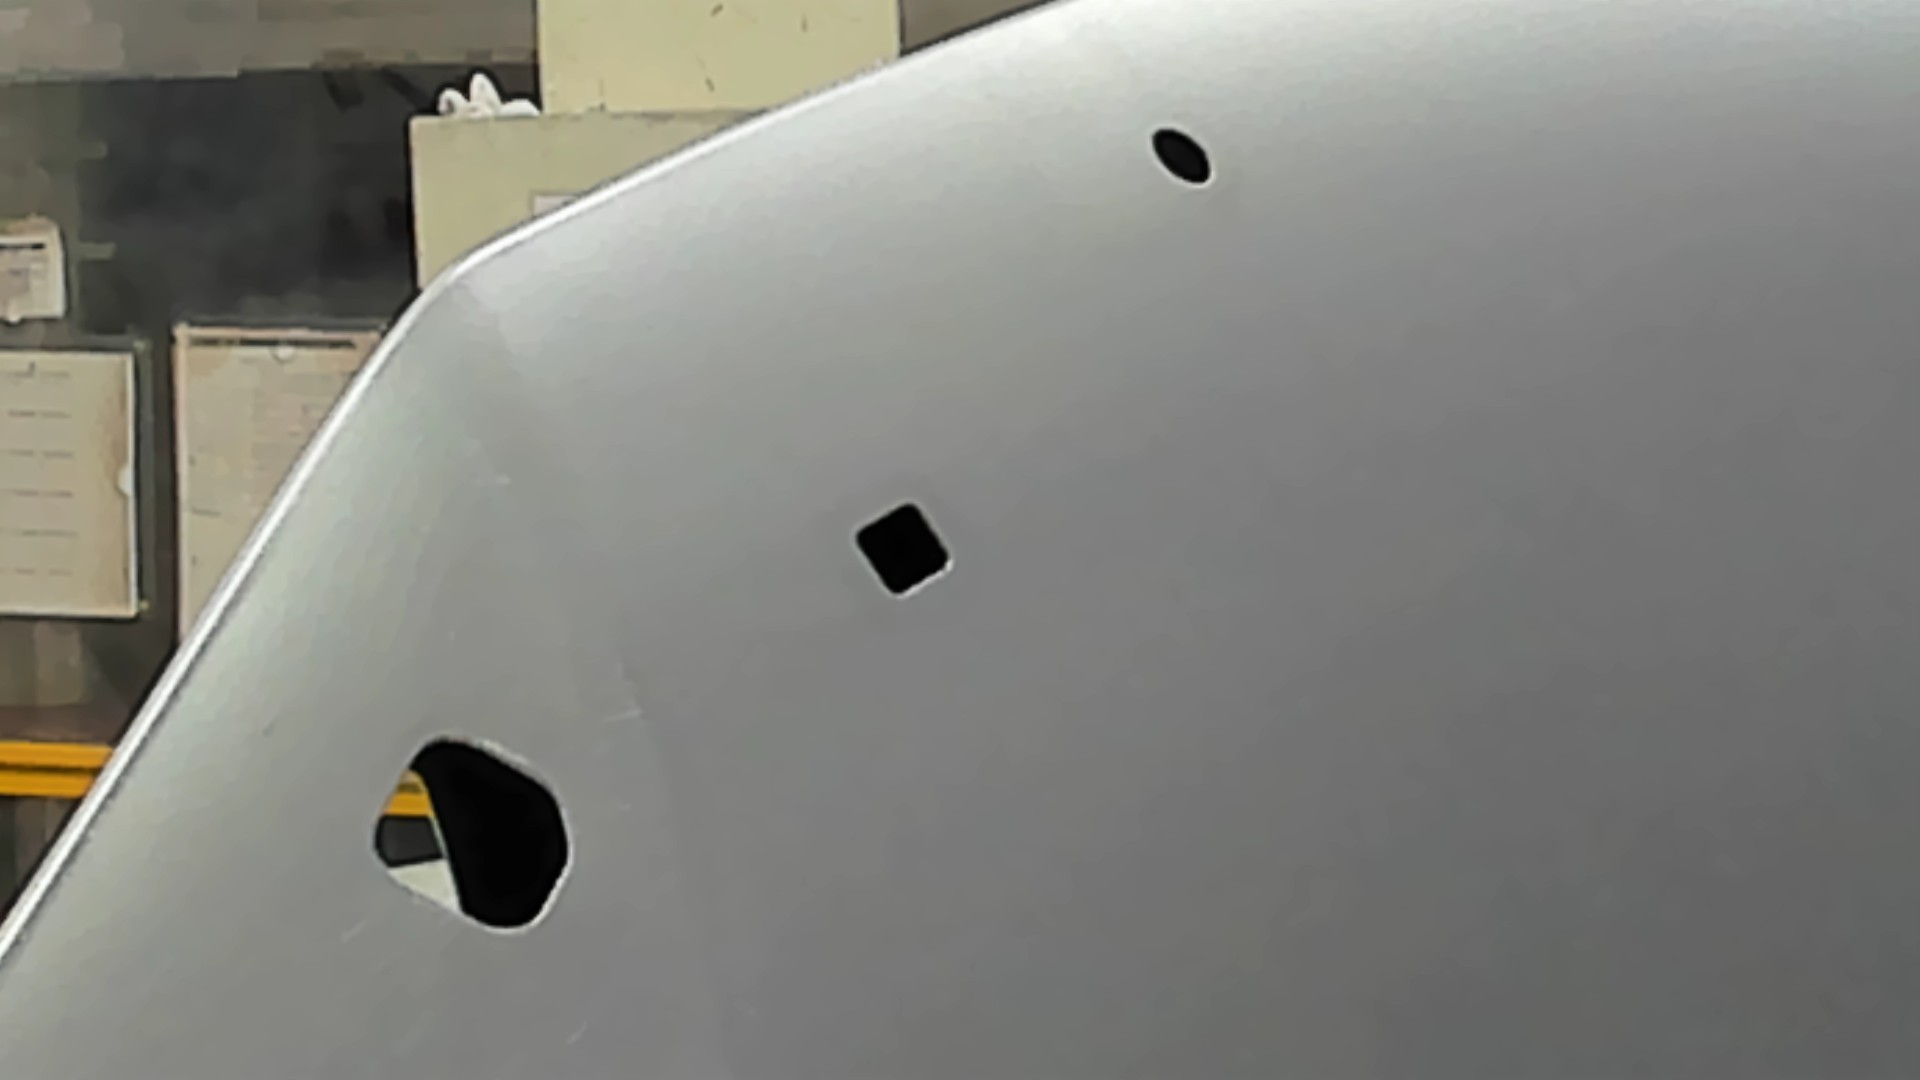capo: (964, 193, 1920, 1080)
chico: (1147, 123, 1218, 190)
grande: (367, 729, 578, 942)
mediano: (847, 497, 959, 604)
